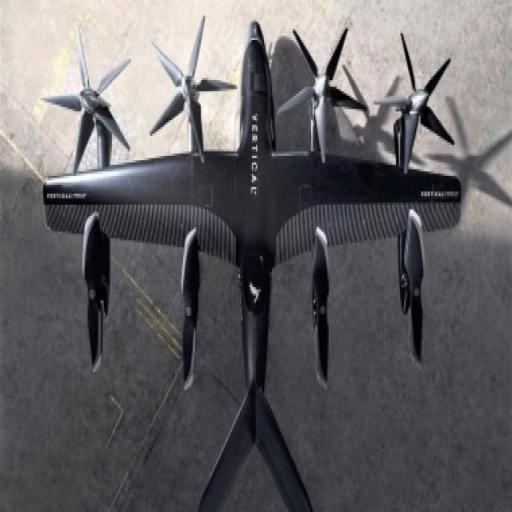uav: (34, 6, 480, 512)
